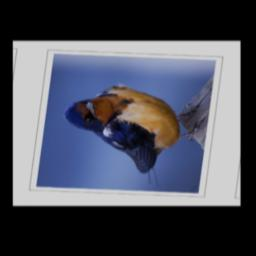Swallow: (53, 81, 211, 189)
